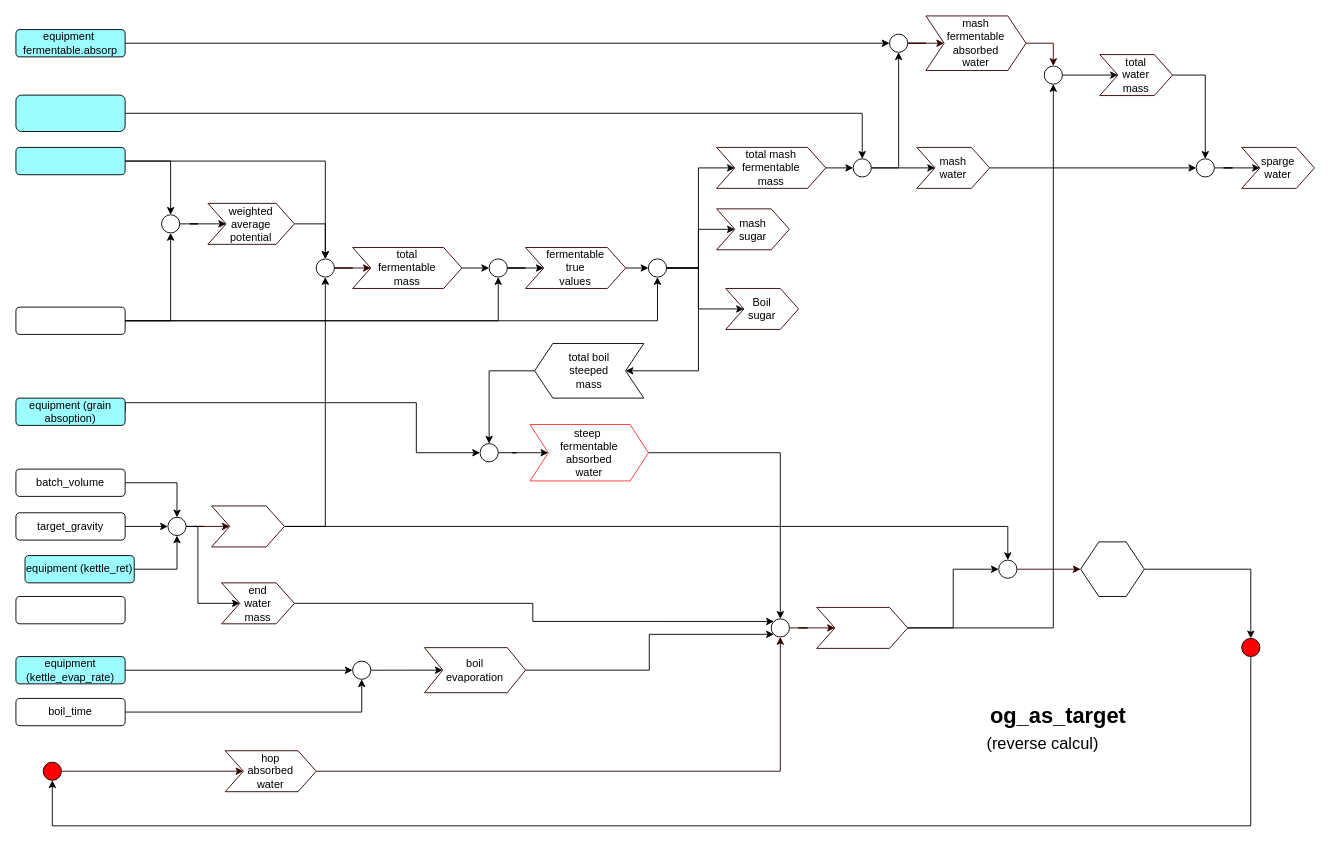
The diagram is 1330 pixels wide and 849 high, and some of its shapes have lost their labels. Here are the shapes that lost their labels. From the top down, the centre of each, then its label:
the point at 70,112: equipment undergrain & thickness
the point at 70,161: equipment (mash eff)
the point at 70,320: mash fermentables (proportions)
the point at 247,526: end sugar
the point at 1112,569: preboil gravity
the point at 70,610: boil fermentables
the point at 862,627: preboil water mass
